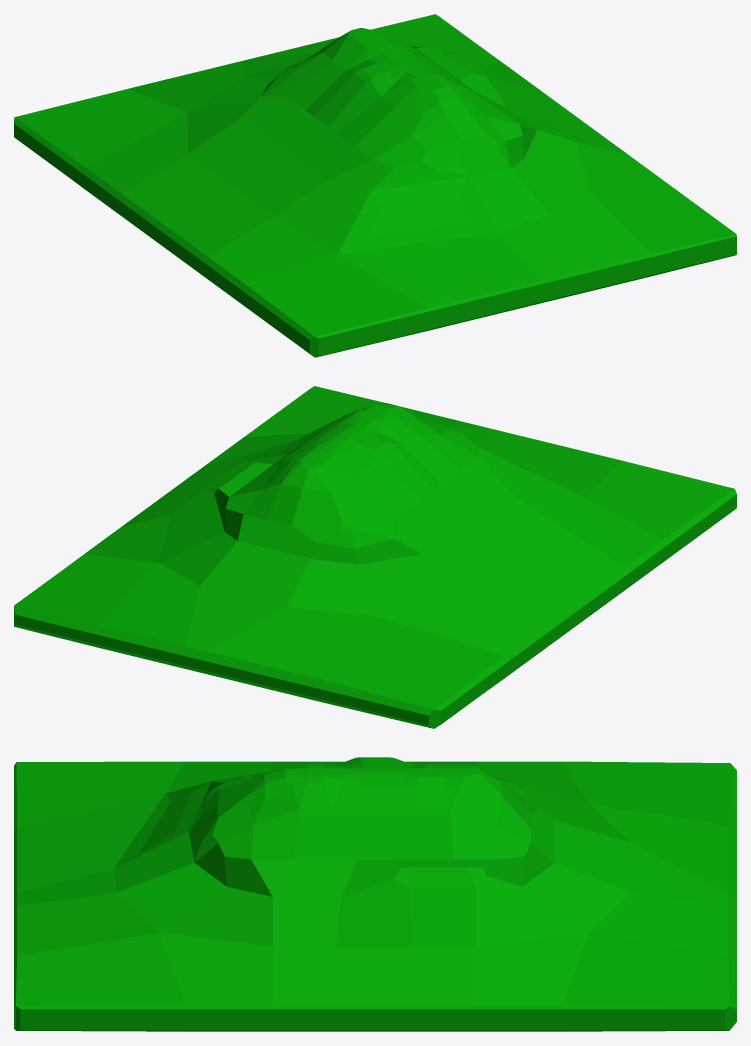
The model's file is mountain1.glb.
The picture shows the model from 3 angles, top to bottom: view 1: azimuth 30°, elevation 25°; view 2: azimuth 150°, elevation 25°; view 3: azimuth 270°, elevation 25°; orthographic projection. The views are drawn at different scales.
Parts seen in each view (by area): view 1: Cube; view 2: Cube; view 3: Cube.
Part boxes in pixels (<box>): Cube: <box>14,14,736,357</box>; Cube: <box>14,386,736,728</box>; Cube: <box>14,757,736,1031</box>.
Bounding box in the file's own units: 39.29 × 11.41 × 48.59.
